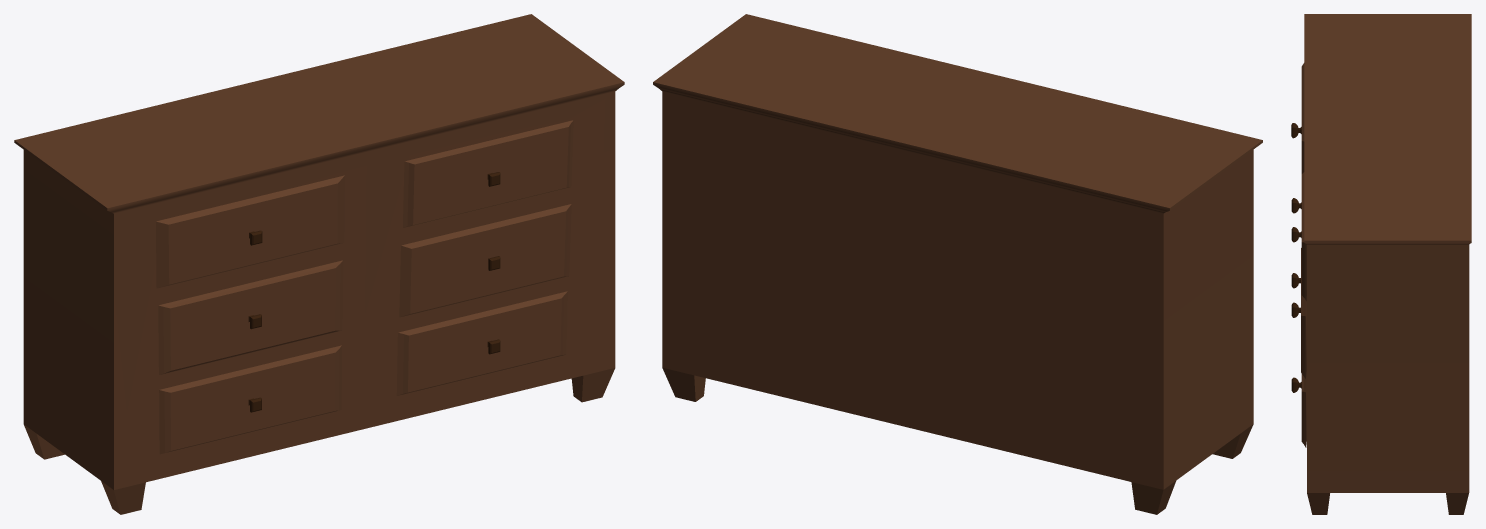
The model's file is Dresser.fbx.
3 views of the same model, side by side, from view 1: azimuth 30°, elevation 25°; view 2: azimuth 150°, elevation 25°; view 3: azimuth 270°, elevation 25° (orthographic). The views are drawn at different scales.
Parts seen in each view (by area): view 1: Dresser1; view 2: Dresser1; view 3: Dresser1.
Part boxes in pixels (x1=…): Dresser1: x1=14, y1=14, x2=624, y2=514; Dresser1: x1=653, y1=14, x2=1262, y2=514; Dresser1: x1=1291, y1=14, x2=1471, y2=514.
Size of the model in its own units: 202 by 117 by 67.88.
